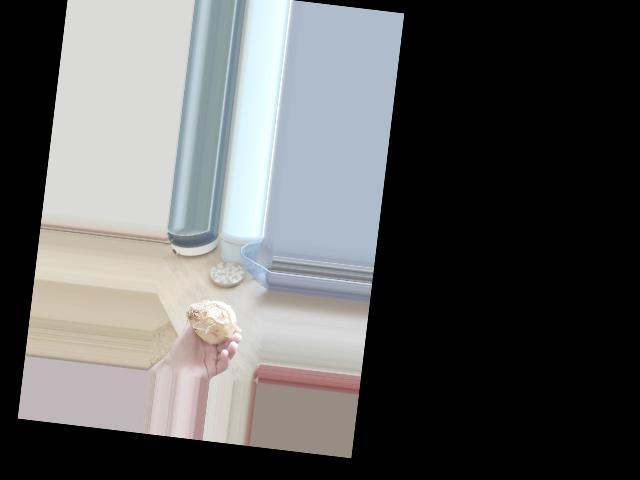onion: (186, 292, 240, 346)
